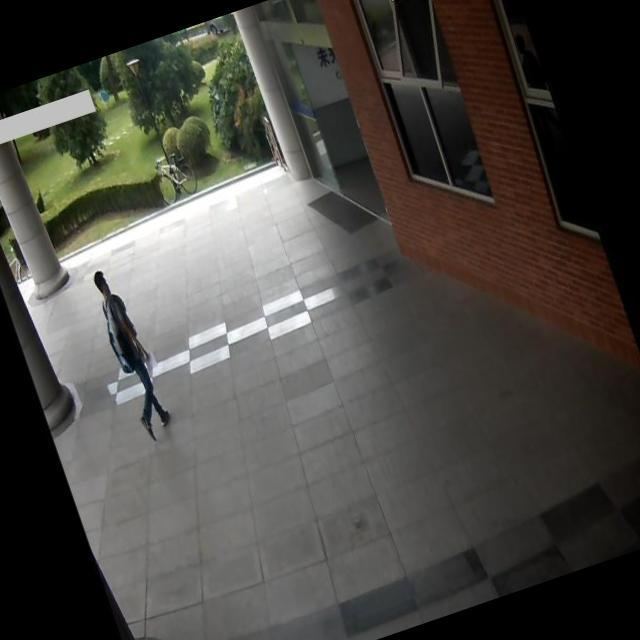person: (74, 244, 192, 458)
